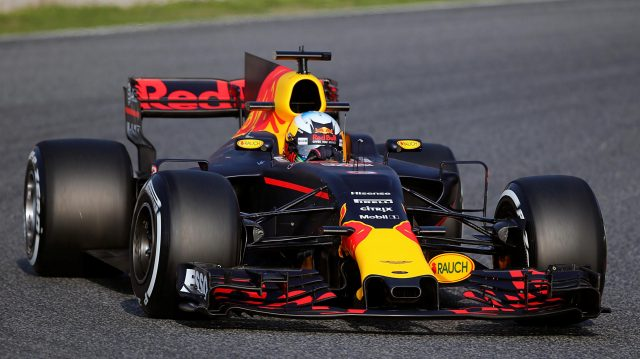f1_car: (16, 38, 619, 342)
